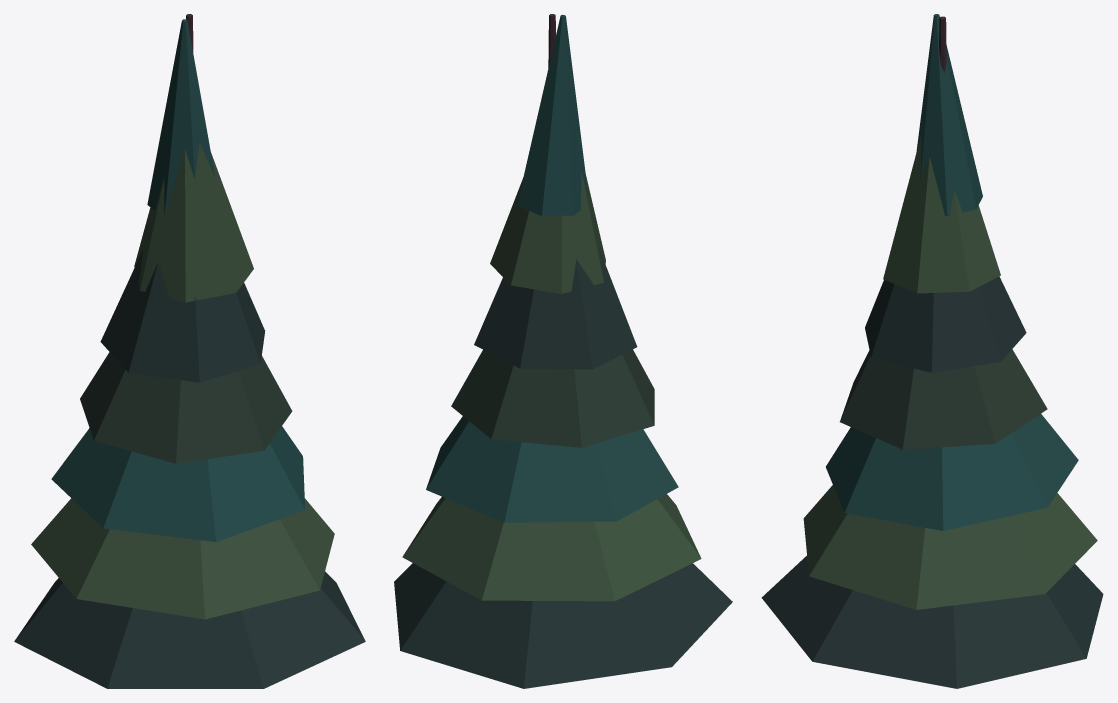
Rendered from brad_2.glb.
The picture shows the model from 3 angles, left to right: view 1: azimuth 30°, elevation 25°; view 2: azimuth 150°, elevation 25°; view 3: azimuth 270°, elevation 25°; orthographic projection. The views are drawn at different scales.
Parts seen in each view (by area): view 1: Brad; view 2: Brad; view 3: Brad.
Part boxes in pixels (bbox=[...]): Brad: bbox=[14, 14, 365, 688]; Brad: bbox=[394, 14, 732, 688]; Brad: bbox=[761, 14, 1103, 688].
Bounding box in the file's own units: 6.07 × 12 × 6.06.
